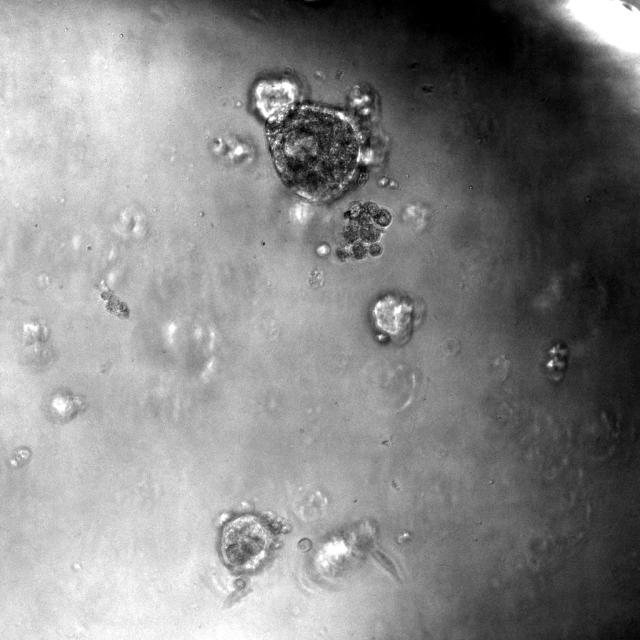organoid: (250, 73, 388, 202), (216, 502, 290, 575), (334, 201, 392, 262), (368, 290, 426, 346), (543, 341, 568, 381), (101, 290, 129, 318), (378, 176, 398, 189), (297, 537, 312, 552), (316, 242, 330, 257), (232, 577, 246, 590)
